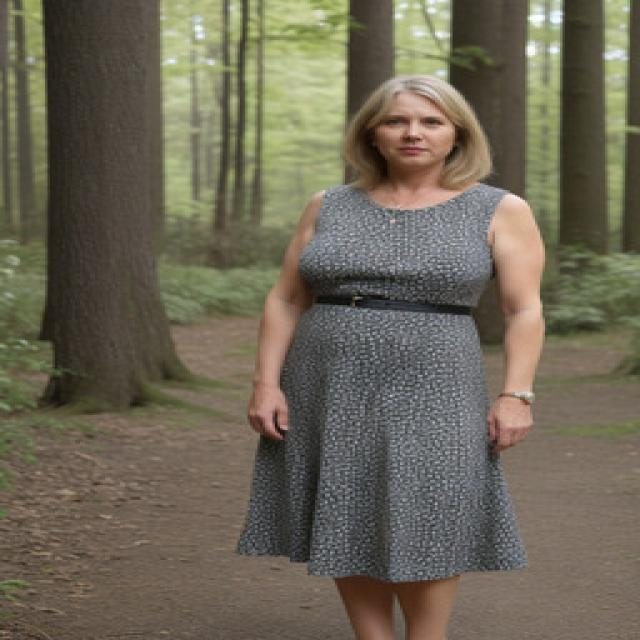Ai human 2: (234, 59, 569, 640)
